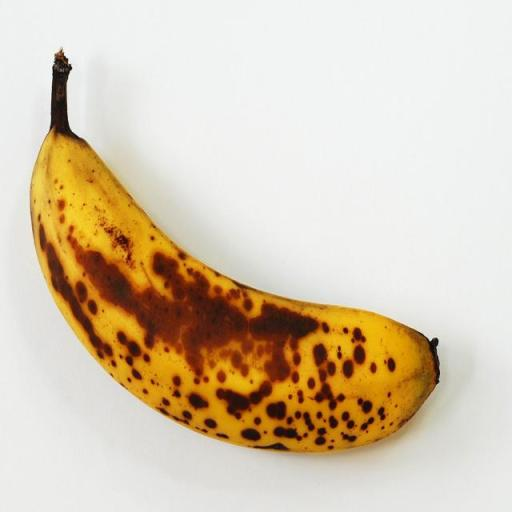fruit: (31, 52, 439, 451)
